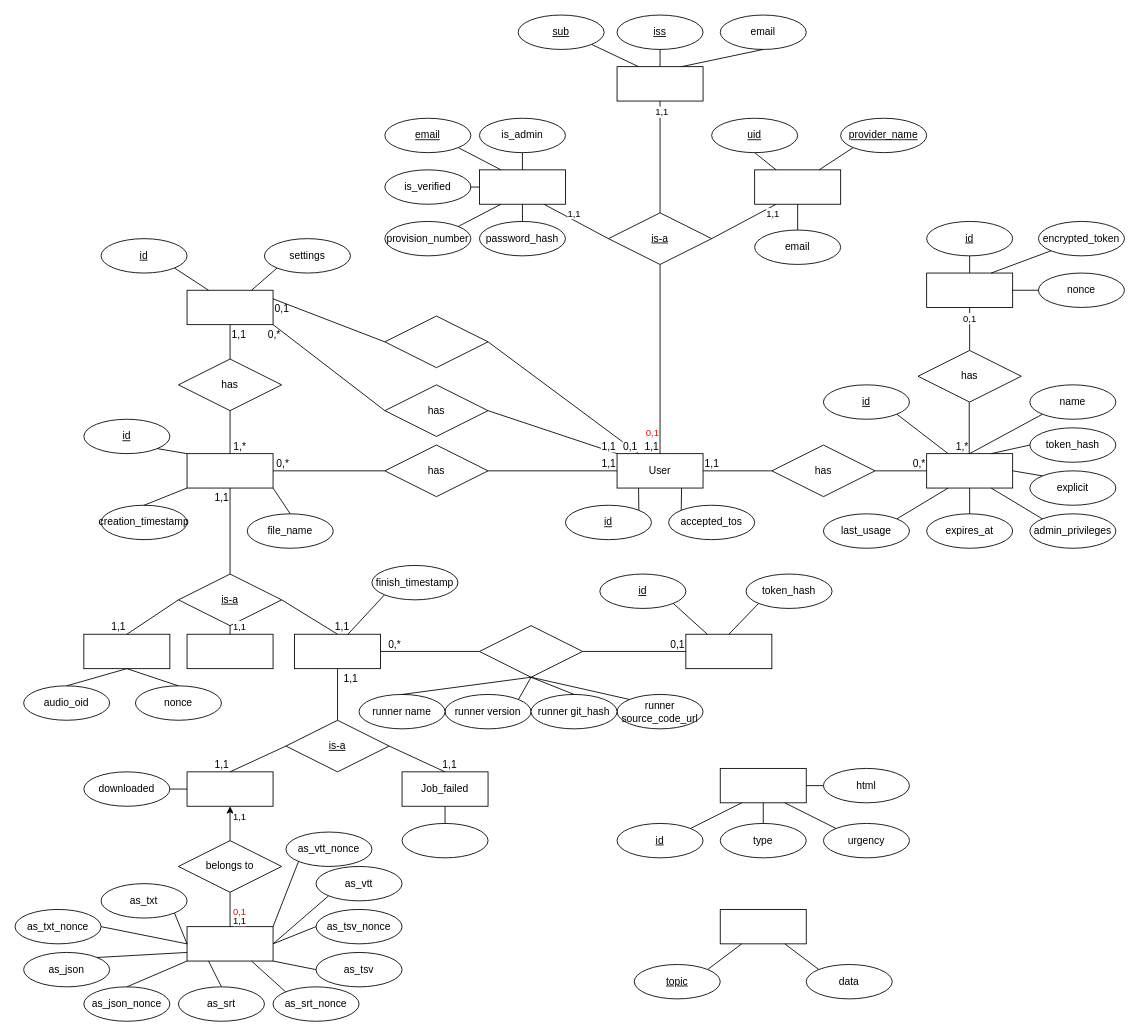
Image size: 1140x1036. Some labels were removed from this diagram. Each missing label, with the centre of its shape:
error_msg: point (444, 840)
finished-by: point (531, 651)
is-default-of: point (436, 341)
Job: point (229, 470)
Job Settings: point (229, 307)
Job_aborting: point (229, 651)
Job_finished: point (337, 651)
Job_running: point (126, 651)
Job_succeeded: point (229, 788)
LDAP Account: point (797, 186)
Local Account: point (522, 186)
Metadata: point (762, 926)
OIDC Account: point (659, 83)
OIDC refresh token: point (969, 289)
Runner: point (728, 651)
Site Data: point (762, 785)
Token: point (969, 470)
Transcript: point (229, 943)
